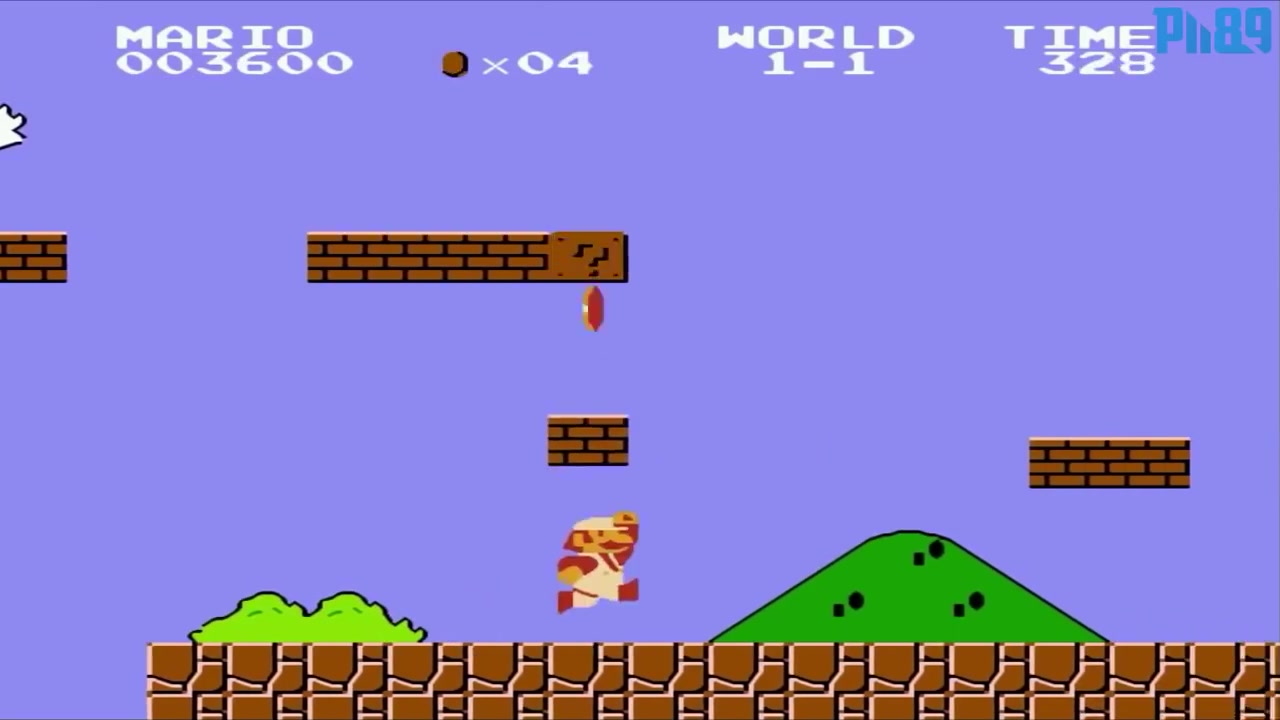mario: (557, 503, 647, 612)
